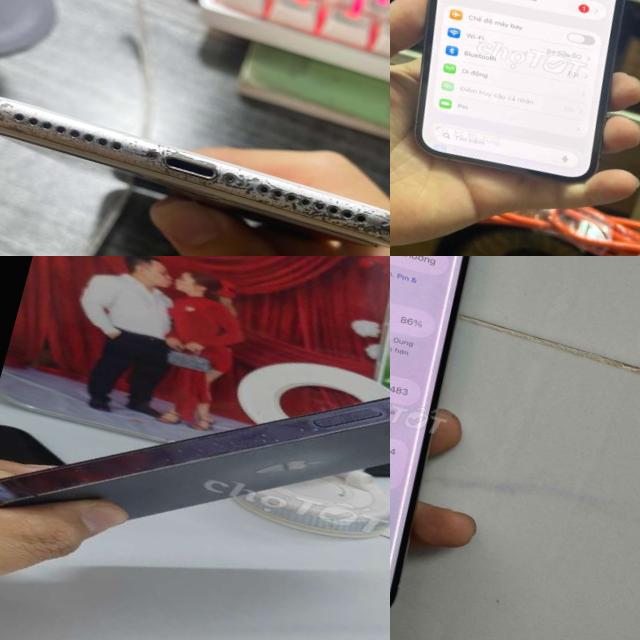gen_12_13: (415, 0, 624, 180)
gen_14: (0, 256, 390, 640)
gen_15: (390, 256, 523, 640)
gen_7_8: (0, 81, 390, 256)
